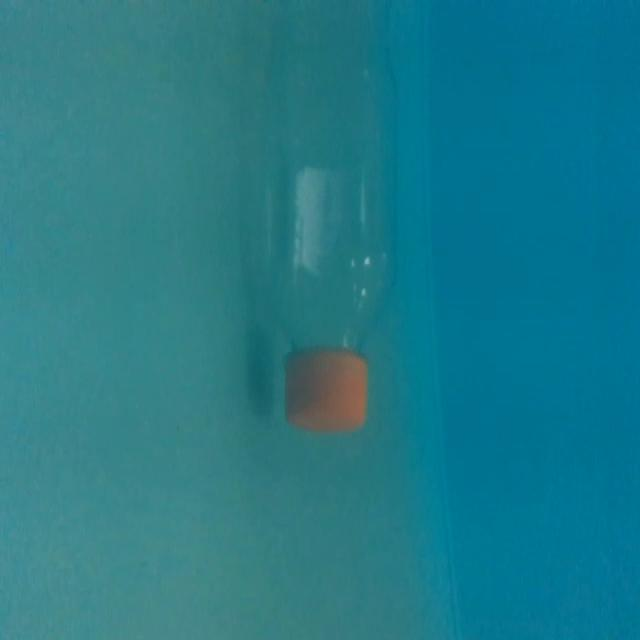plastic bottle: (244, 6, 406, 438)
